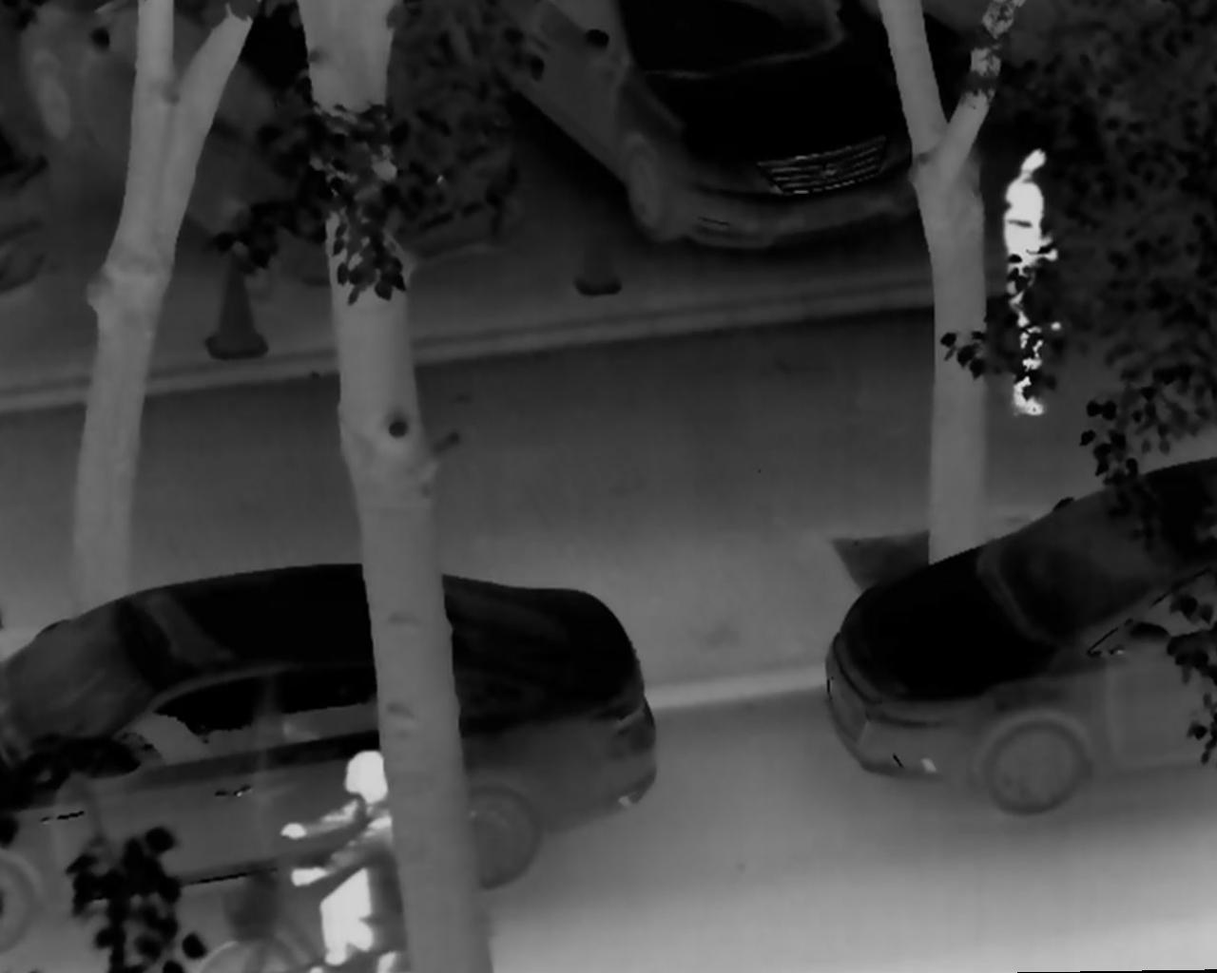person: (278, 748, 400, 973), (1002, 136, 1076, 421)
